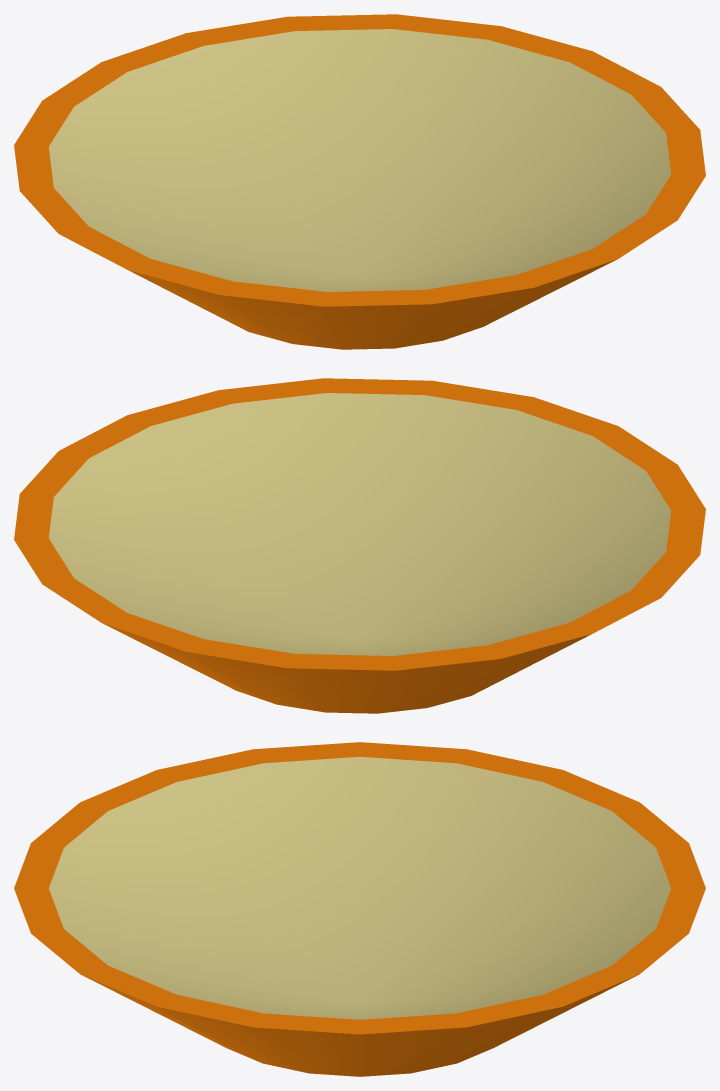
Rendered from bowl.fbx.
3 renders of one model, top to bottom at view 1: azimuth 30°, elevation 25°; view 2: azimuth 150°, elevation 25°; view 3: azimuth 270°, elevation 25°, orthographic.
Parts seen in each view (by area): view 1: pCylinder1; view 2: pCylinder1; view 3: pCylinder1.
Boxes of the visible parts, left/top/right/bottom form: pCylinder1: left=14, top=14, right=705, bottom=349; pCylinder1: left=14, top=378, right=705, bottom=713; pCylinder1: left=14, top=742, right=705, bottom=1076.
Bounding box in the file's own units: 2 × 0.3786 × 2.
